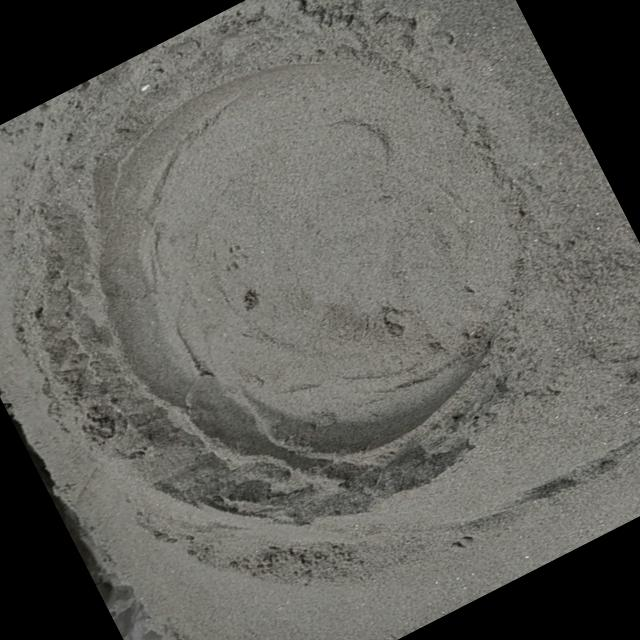C40: (81, 52, 522, 489)
